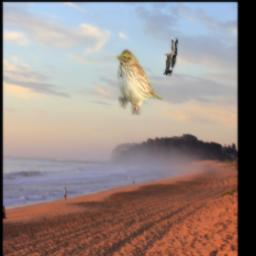Sparrow: (116, 48, 163, 116)
Woodpecker: (162, 37, 178, 76)
